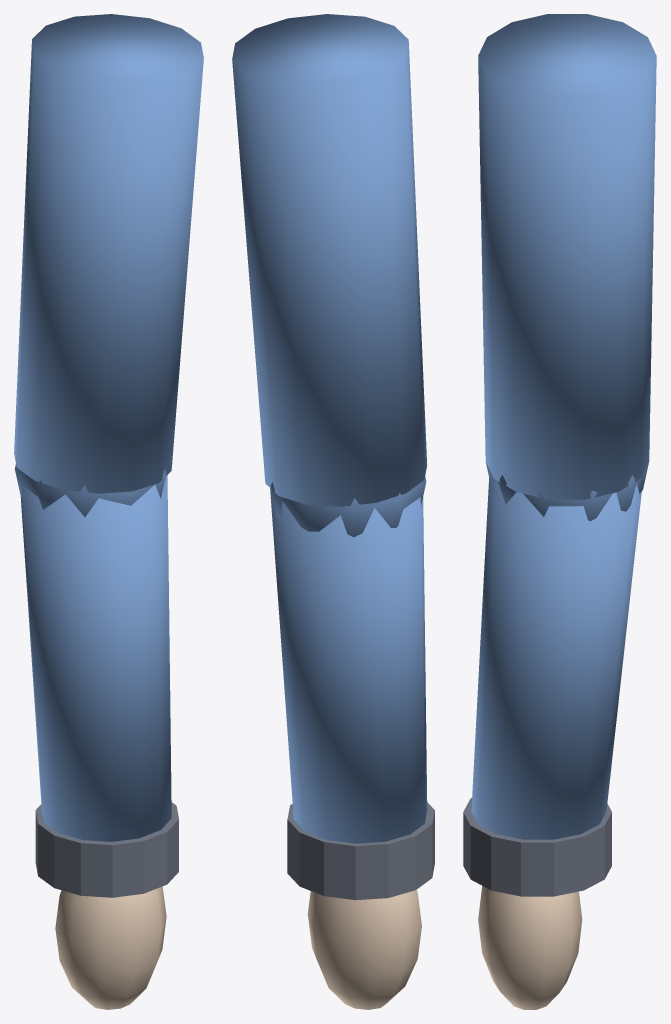
The model's file is crew__armL.fbx.
3 renders of one model, left to right at view 1: azimuth 30°, elevation 25°; view 2: azimuth 150°, elevation 25°; view 3: azimuth 270°, elevation 25°, orthographic. The views are drawn at different scales.
Visible parts, largest first — view 1: crew__armL; view 2: crew__armL; view 3: crew__armL.
Part boxes in pixels (<box>): crew__armL: <box>14,14,203,1009</box>; crew__armL: <box>232,14,434,1009</box>; crew__armL: <box>463,14,656,1009</box>.
Bounding box in the file's own units: 0.1319 × 0.7188 × 0.13.
